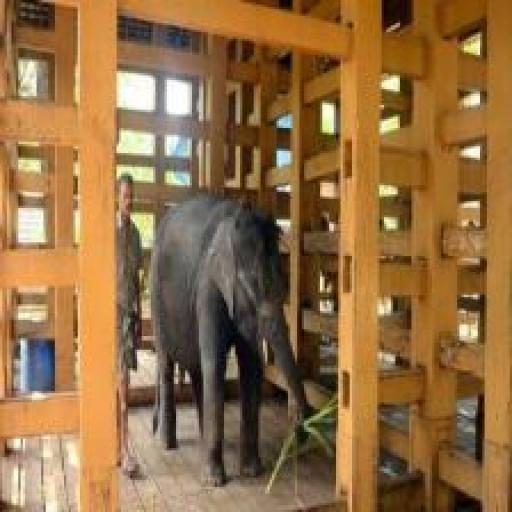Elephant: (155, 185, 328, 512)
